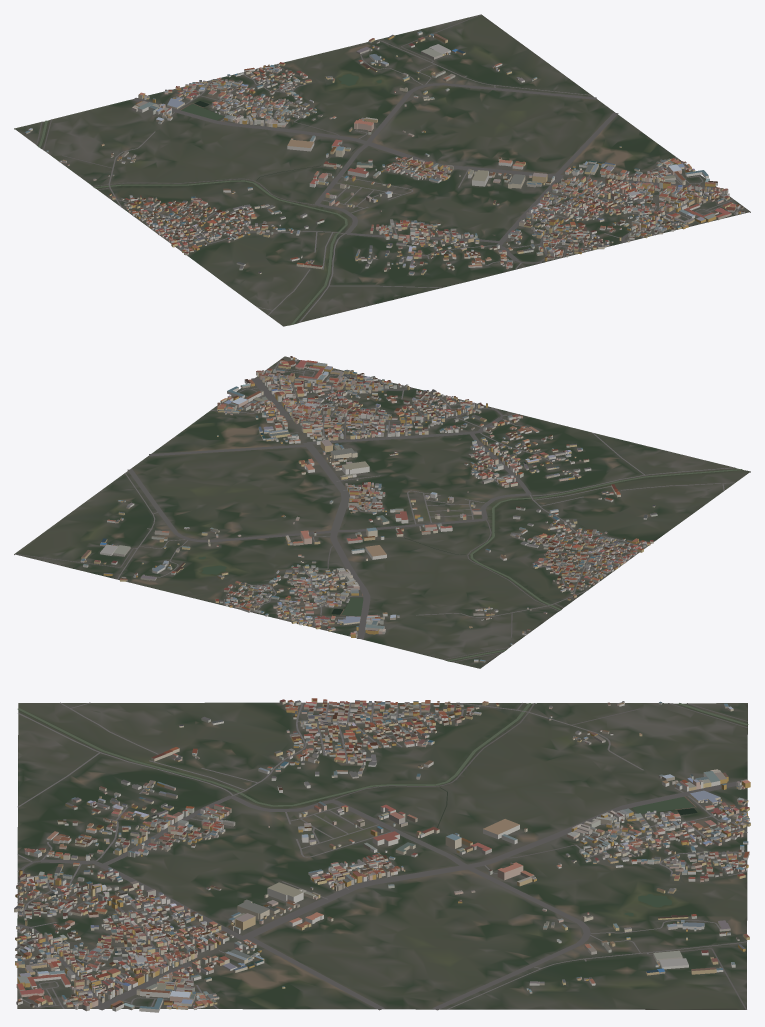
3 renders of one model, top to bottom at view 1: azimuth 30°, elevation 25°; view 2: azimuth 150°, elevation 25°; view 3: azimuth 270°, elevation 25°, orthographic. The views are drawn at different scales.
Visible parts, largest first — view 1: ground, buildings, roads, water; view 2: ground, buildings, roads, water; view 3: ground, buildings, roads, water.
Boxes of the visible parts, bbox=[...] form: ground: bbox=[14, 14, 750, 326]; buildings: bbox=[24, 31, 744, 275]; roads: bbox=[36, 14, 741, 322]; water: bbox=[38, 74, 381, 324]; ground: bbox=[14, 356, 750, 668]; buildings: bbox=[80, 356, 657, 662]; roads: bbox=[14, 359, 735, 662]; water: bbox=[199, 469, 742, 661]; ground: bbox=[17, 702, 747, 1009]; buildings: bbox=[14, 698, 750, 1012]; roads: bbox=[17, 702, 747, 1010]; water: bbox=[17, 703, 748, 916].
Size of the model in its own units: 1420 by 24.53 by 1416.
